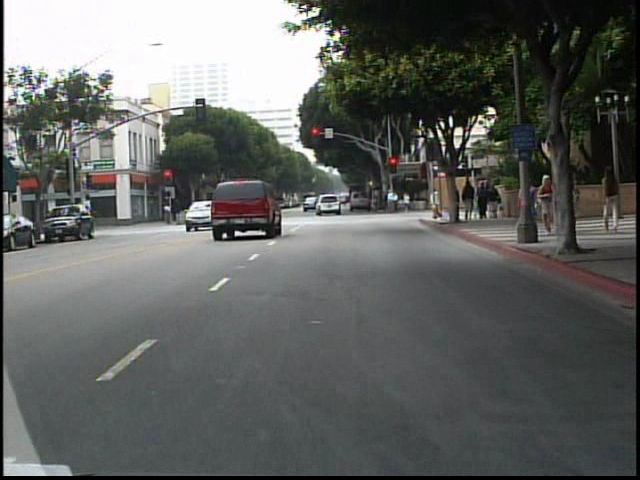person: (599, 164, 623, 232), (534, 172, 555, 237), (571, 172, 589, 237), (461, 177, 477, 223), (430, 187, 445, 220), (163, 201, 176, 229)
